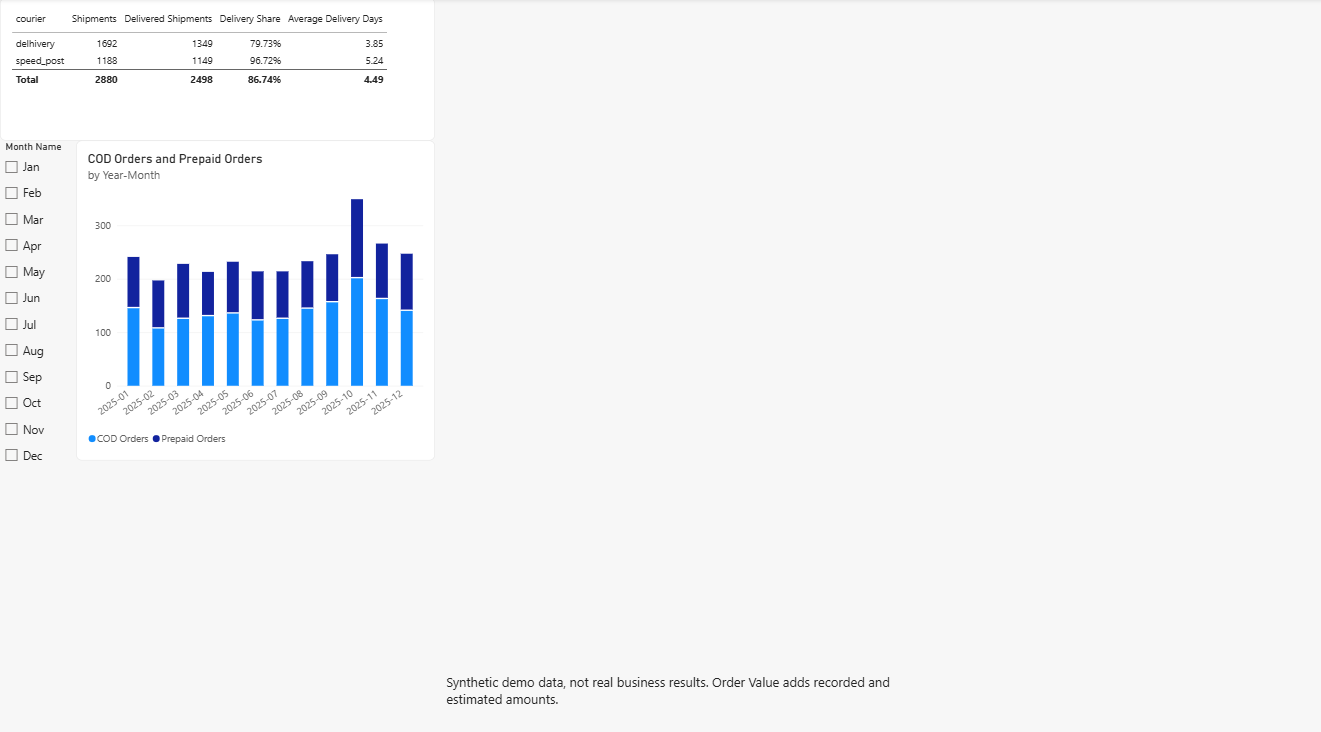

This screenshot's page, from the dashboard's own definition file:
{"tool":"powerbi","page":{"name":"Payment & Shipping","canvas":[1920,1080],"ordinal":3},"visuals":[{"type":"tableEx","fields":{"Values":["clean shipments.courier","Date.Shipments","Date.Delivered Shipments","Date.Delivery Share","Date.Average Delivery Days"]},"box":[0,0,629.8,206.3],"z":0},{"type":"columnChart","fields":{"Category":["Date.Year-Month"],"Y":["Date.COD Orders","Date.Prepaid Orders"]},"box":[110.4,206.3,519.4,463.3],"z":1000},{"type":"slicer","fields":{"Values":["Date.Month Name"]},"box":[0,206.3,114,512.1],"z":2000},{"type":"textbox","box":[646.3,977.7,658.7,84.4],"z":2001}]}

Visuals, with their boxes in screenshot pixels (x1, y1, x2, y2), scaled from the page's 1920x1080 canvas onto the 1321x732 screenshot:
tableEx - clean shipments.courier x Date.Shipments: (x1=0, y1=0, x2=433, y2=140)
columnChart - Date.Year-Month x Date.COD Orders: (x1=76, y1=140, x2=433, y2=454)
slicer - Date.Month Name: (x1=0, y1=140, x2=78, y2=487)
textbox: (x1=445, y1=663, x2=898, y2=720)
